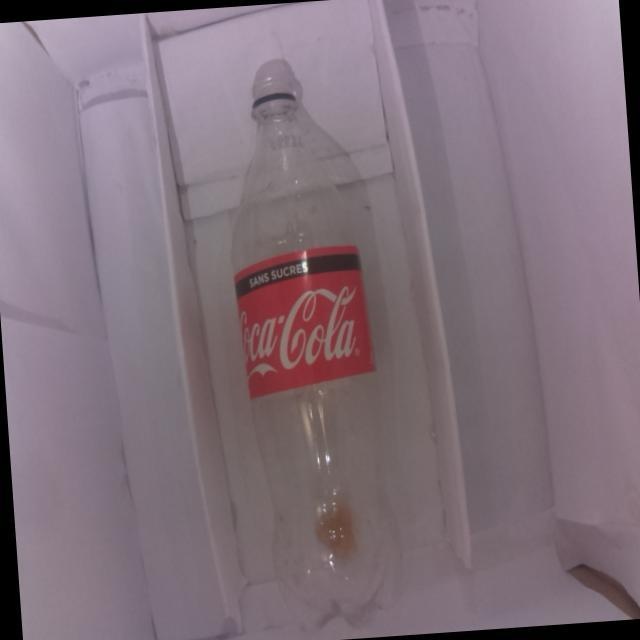good: (212, 48, 409, 640)
